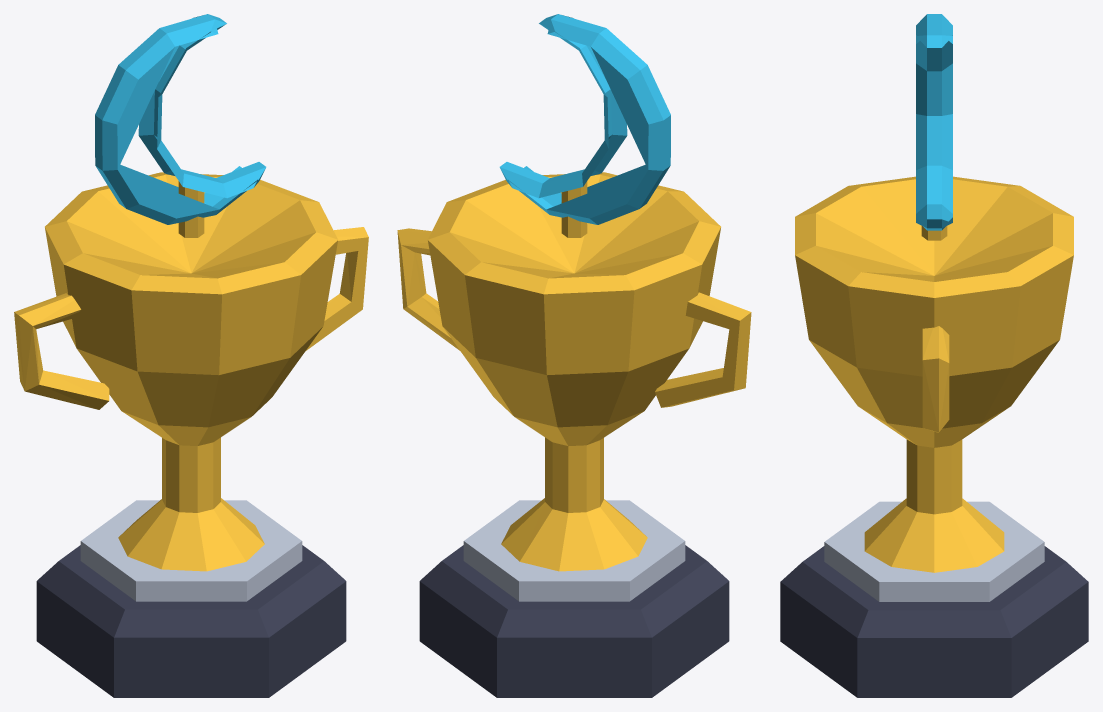
Rendered from trophy_moon.obj.
3 renders of one model, left to right at view 1: azimuth 30°, elevation 25°; view 2: azimuth 150°, elevation 25°; view 3: azimuth 270°, elevation 25°, orthographic.
Bounding box in the file's own units: 1.09 × 1.85 × 0.84.
